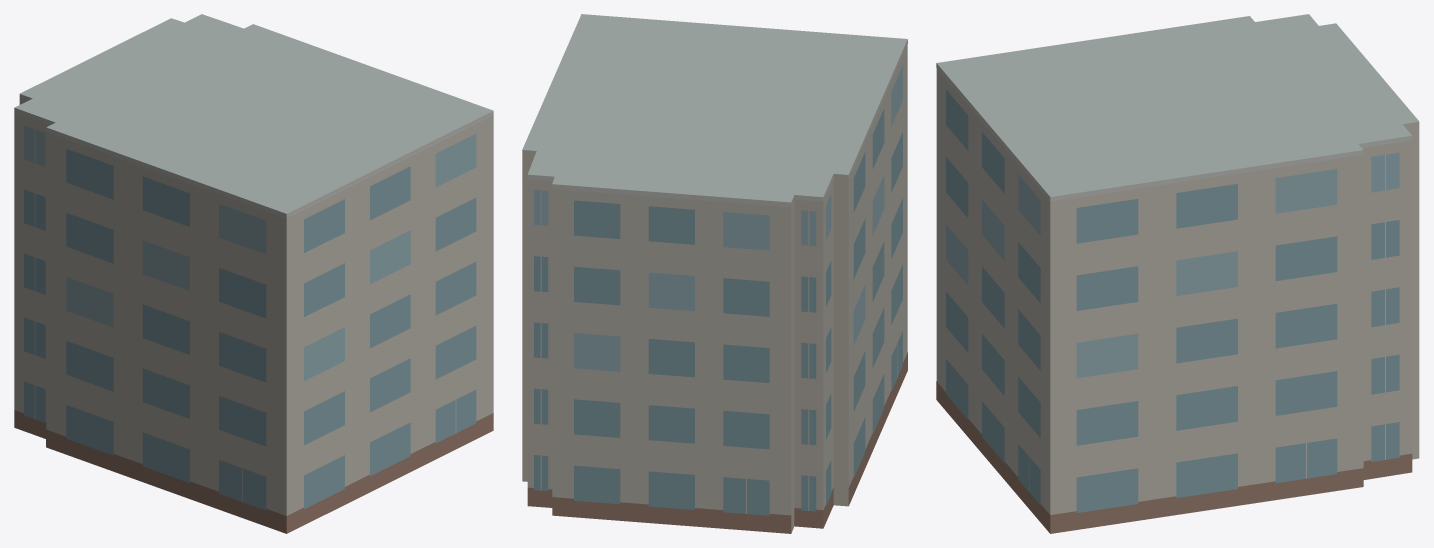
Rendered from survey-upis-32740479.glb.
3 renders of one model, left to right at view 1: azimuth 30°, elevation 25°; view 2: azimuth 150°, elevation 25°; view 3: azimuth 270°, elevation 25°, orthographic. The views are drawn at different scales.
Visible parts, largest first — view 1: survey-upis-32740479.tmp; view 2: survey-upis-32740479.tmp; view 3: survey-upis-32740479.tmp.
Boxes of the visible parts, x1=… form: survey-upis-32740479.tmp: x1=14, y1=14, x2=493, y2=533; survey-upis-32740479.tmp: x1=522, y1=14, x2=907, y2=533; survey-upis-32740479.tmp: x1=936, y1=14, x2=1419, y2=533.
Bounding box in the file's own units: 19.59 × 16.8 × 21.84.
